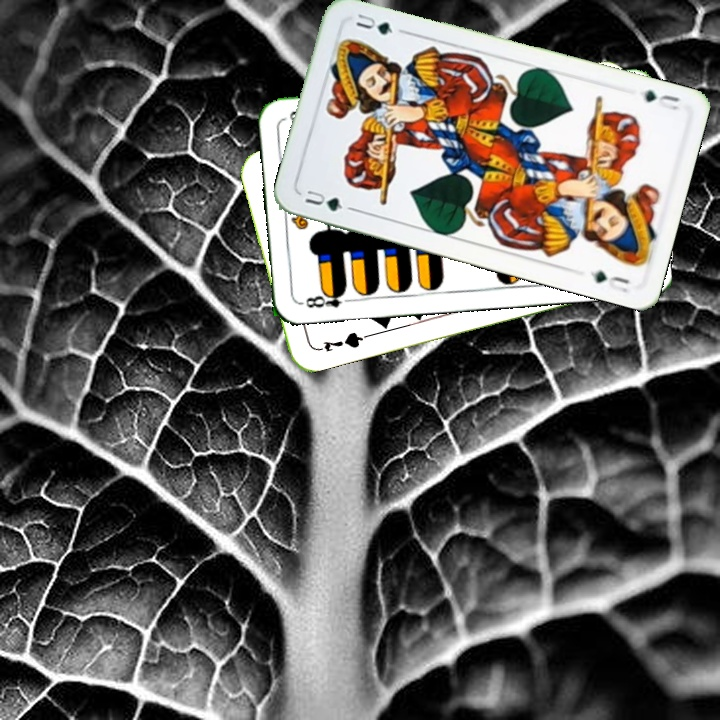E8: (297, 285, 356, 311)
G7: (311, 328, 369, 354)
GU: (301, 184, 345, 214), (640, 86, 683, 113)
